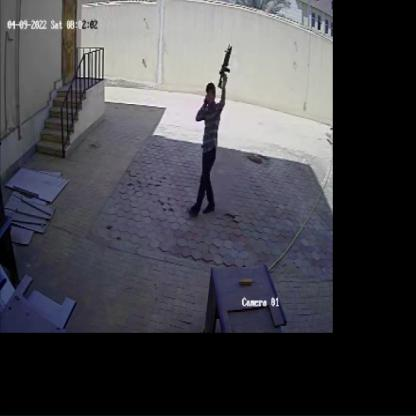handgun: (216, 39, 236, 94)
